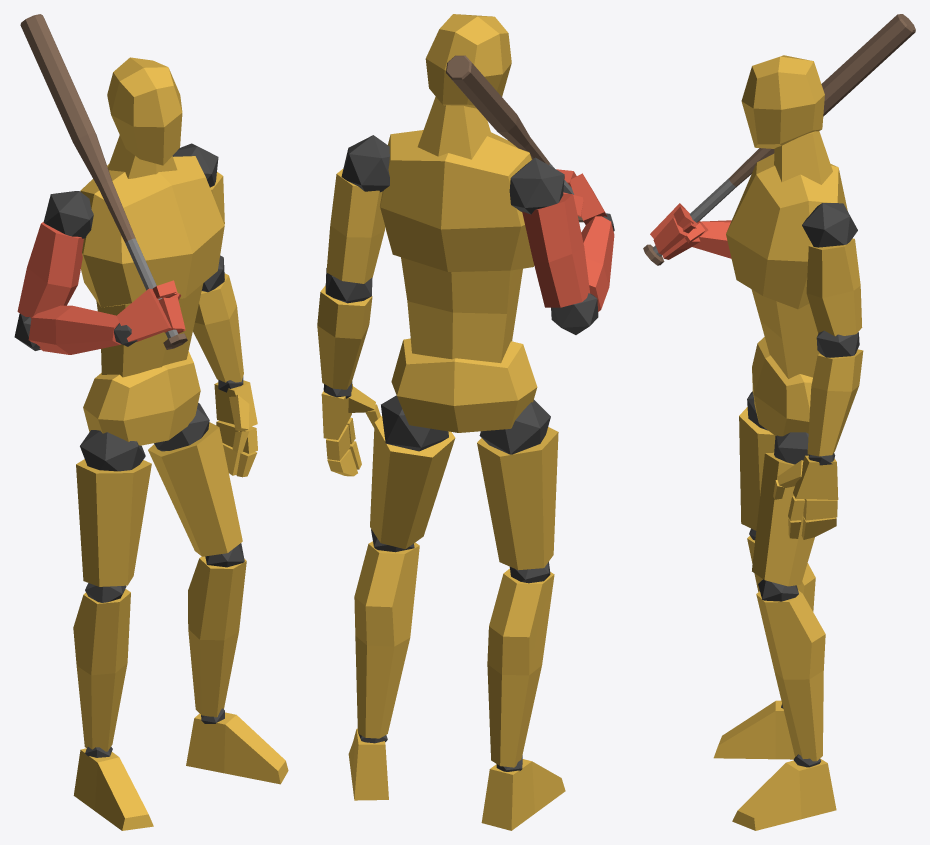
The model's file is dummy.glb.
The picture shows the model from 3 angles, left to right: view 1: azimuth 30°, elevation 25°; view 2: azimuth 150°, elevation 25°; view 3: azimuth 270°, elevation 25°; orthographic projection. The views are drawn at different scales.
Parts seen in each view (by area): view 1: dummy; view 2: dummy; view 3: dummy.
Part boxes in pixels (<box>): dummy: <box>14,14,288,830</box>; dummy: <box>317,14,614,830</box>; dummy: <box>643,14,915,830</box>.
Size of the model in its own units: 1.36 by 3.9 by 1.32.
